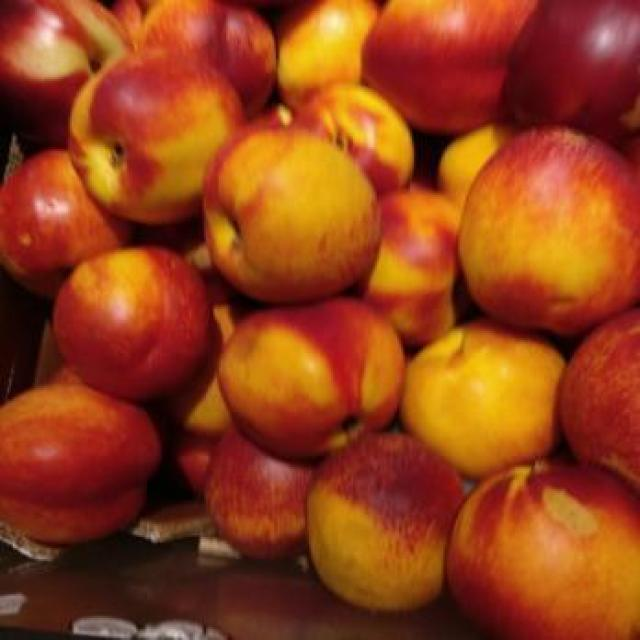Nectarine: (460, 127, 638, 331), (447, 467, 638, 638), (217, 302, 406, 464), (206, 129, 382, 302), (70, 54, 244, 225), (306, 432, 464, 614), (0, 381, 162, 544), (405, 314, 570, 470), (55, 248, 210, 399), (358, 0, 535, 132), (4, 149, 136, 298), (502, 2, 638, 125)
